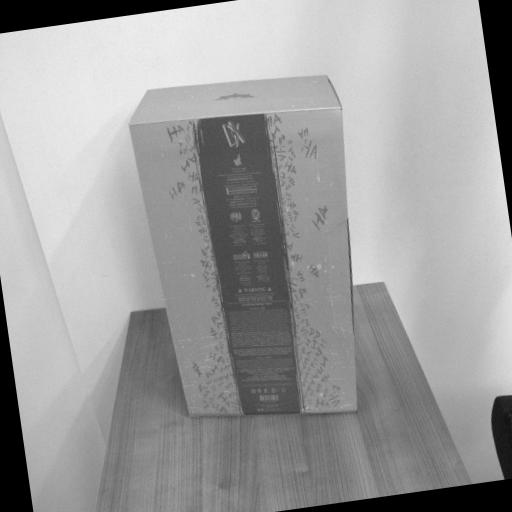Joker: (126, 58, 376, 439)
